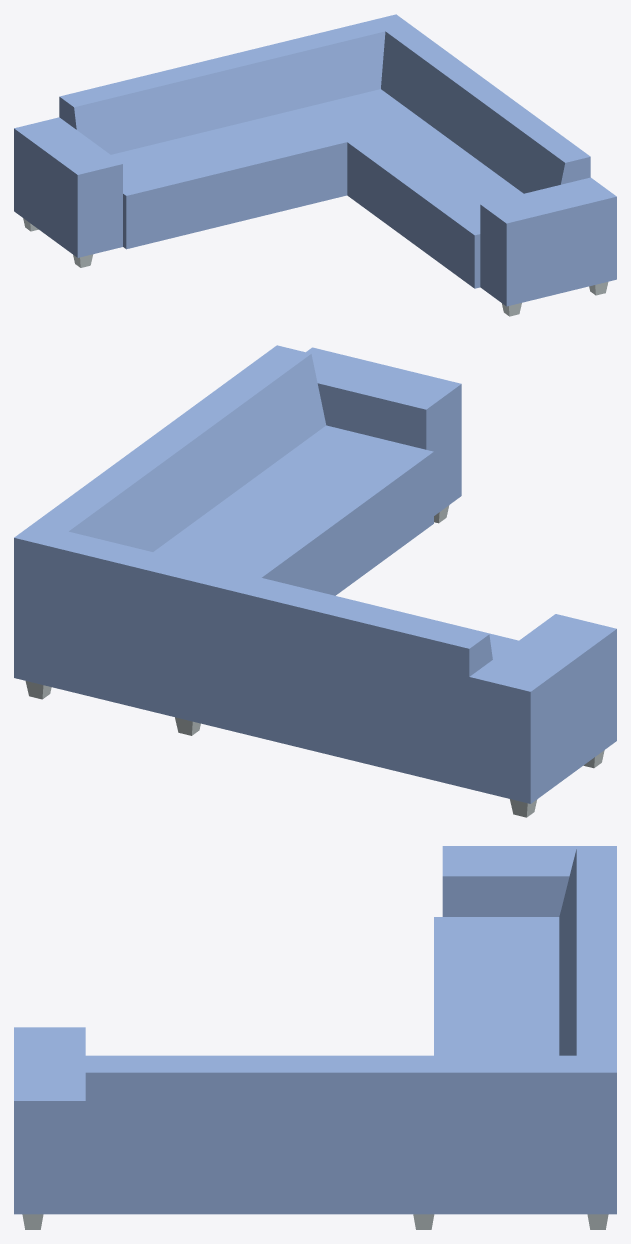
The model's file is loungeDesignSofaCorner.glb.
3 renders of one model, top to bottom at view 1: azimuth 30°, elevation 25°; view 2: azimuth 150°, elevation 25°; view 3: azimuth 270°, elevation 25°, orthographic. The views are drawn at different scales.
Parts seen in each view (by area): view 1: loungeDesignSofaCorner; view 2: loungeDesignSofaCorner; view 3: loungeDesignSofaCorner.
Part boxes in pixels (x1,y1,x2,y2): loungeDesignSofaCorner: (14,14,616,316); loungeDesignSofaCorner: (14,345,616,817); loungeDesignSofaCorner: (14,846,616,1229).
Bounding box in the file's own units: 1.35 × 0.4 × 1.35.
